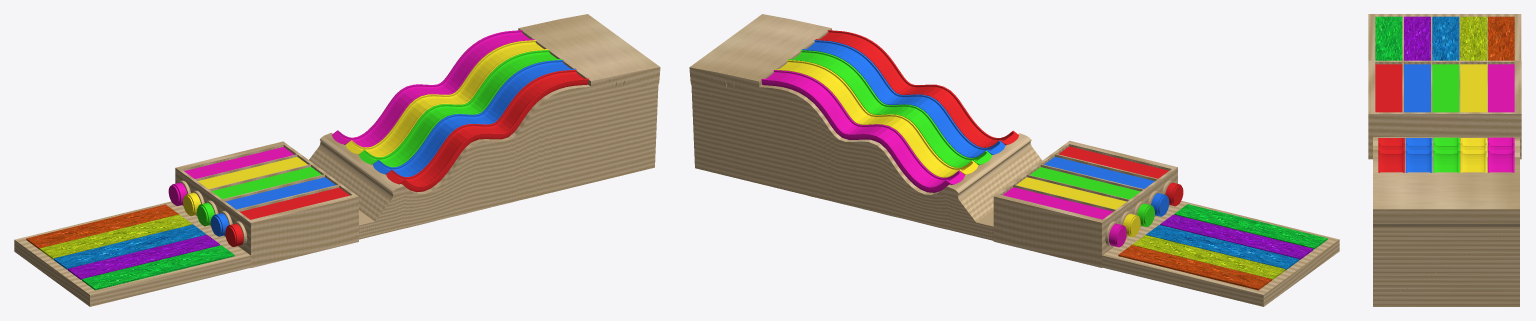
File: kolam-warna.glb
The picture shows the model from 3 angles, left to right: view 1: azimuth 30°, elevation 25°; view 2: azimuth 150°, elevation 25°; view 3: azimuth 270°, elevation 25°; orthographic projection.
Visible parts, largest first — view 1: Material_002-material, Material_008-material, Material_009-material, Material_003-material, Material_005-material, Material_007-material, Material_006-material, Material_004-material, Material_010-material, Material_011-material, Material_012-material, Material_013-material (+16 smaller); view 2: Material_002-material, Material_008-material, Material_009-material, Material_007-material, Material_006-material, Material_004-material, Material_003-material, Material_005-material, Material_014-material, Material_010-material, Material_011-material, Material_012-material (+16 smaller); view 3: Material_002-material, Material_008-material, Material_009-material, Material_020-material, Material_019-material, Material_017-material, Material_021-material, Material_018-material, Material_013-material, Material_011-material, Material_010-material, Material_012-material (+16 smaller).
Boxes of the visible parts, x1,y1,x2,y2 form: Material_002-material: (309, 14, 660, 239); Material_008-material: (175, 141, 358, 267); Material_009-material: (14, 201, 250, 306); Material_003-material: (386, 69, 588, 191); Material_005-material: (359, 50, 561, 166); Material_007-material: (332, 30, 534, 147); Material_006-material: (346, 40, 548, 156); Material_004-material: (373, 60, 575, 176); Material_010-material: (82, 246, 234, 290); Material_011-material: (67, 235, 220, 279); Material_012-material: (53, 224, 206, 269); Material_013-material: (39, 214, 192, 259); Material_002-material: (689, 14, 1042, 240); Material_008-material: (993, 140, 1177, 267); Material_009-material: (1102, 201, 1339, 306); Material_007-material: (761, 70, 961, 192); Material_006-material: (775, 60, 973, 177); Material_004-material: (802, 40, 1001, 157); Material_003-material: (815, 30, 1014, 147); Material_005-material: (788, 50, 987, 167); Material_014-material: (1118, 245, 1271, 290); Material_010-material: (1174, 204, 1327, 249); Material_011-material: (1160, 215, 1313, 259); Material_012-material: (1146, 225, 1299, 270); Material_002-material: (1373, 137, 1519, 306); Material_008-material: (1368, 60, 1521, 159); Material_009-material: (1368, 14, 1521, 60); Material_020-material: (1460, 64, 1487, 112); Material_019-material: (1432, 64, 1459, 112); Material_017-material: (1375, 64, 1402, 112); Material_021-material: (1488, 64, 1514, 112); Material_018-material: (1404, 64, 1430, 112); Material_013-material: (1460, 17, 1487, 60); Material_011-material: (1404, 16, 1430, 60); Material_010-material: (1376, 17, 1402, 60); Material_012-material: (1432, 17, 1458, 60).
Bounding box in the file's own units: 33.17 × 5.8 × 7.6.
16 materials, 11 textured.
